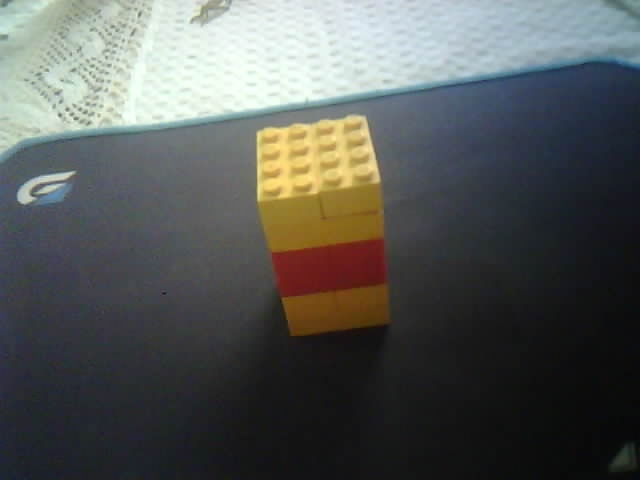lego: (254, 113, 391, 339)
